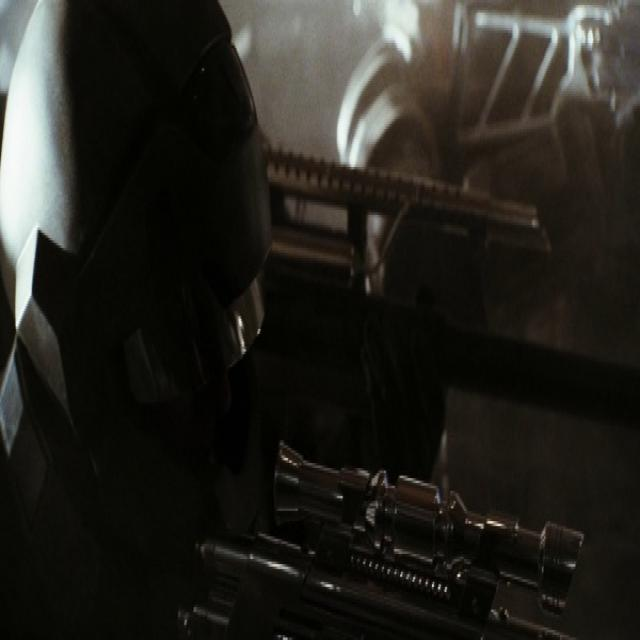rifle: (174, 422, 593, 637)
